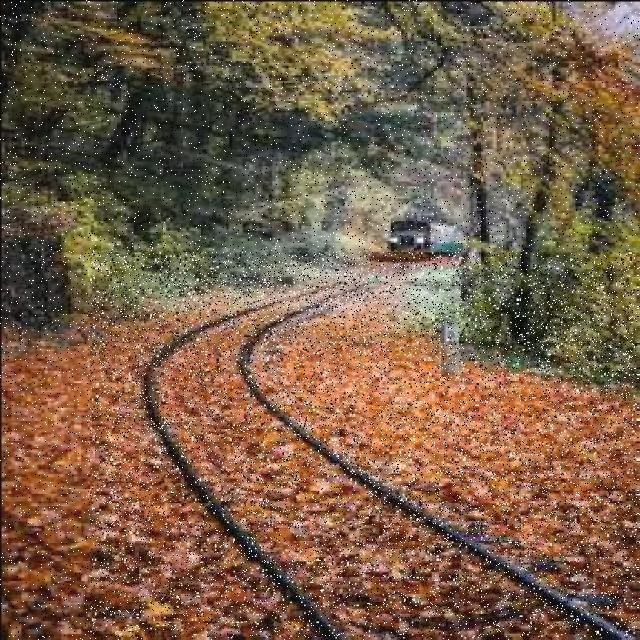rail: (92, 253, 639, 638)
